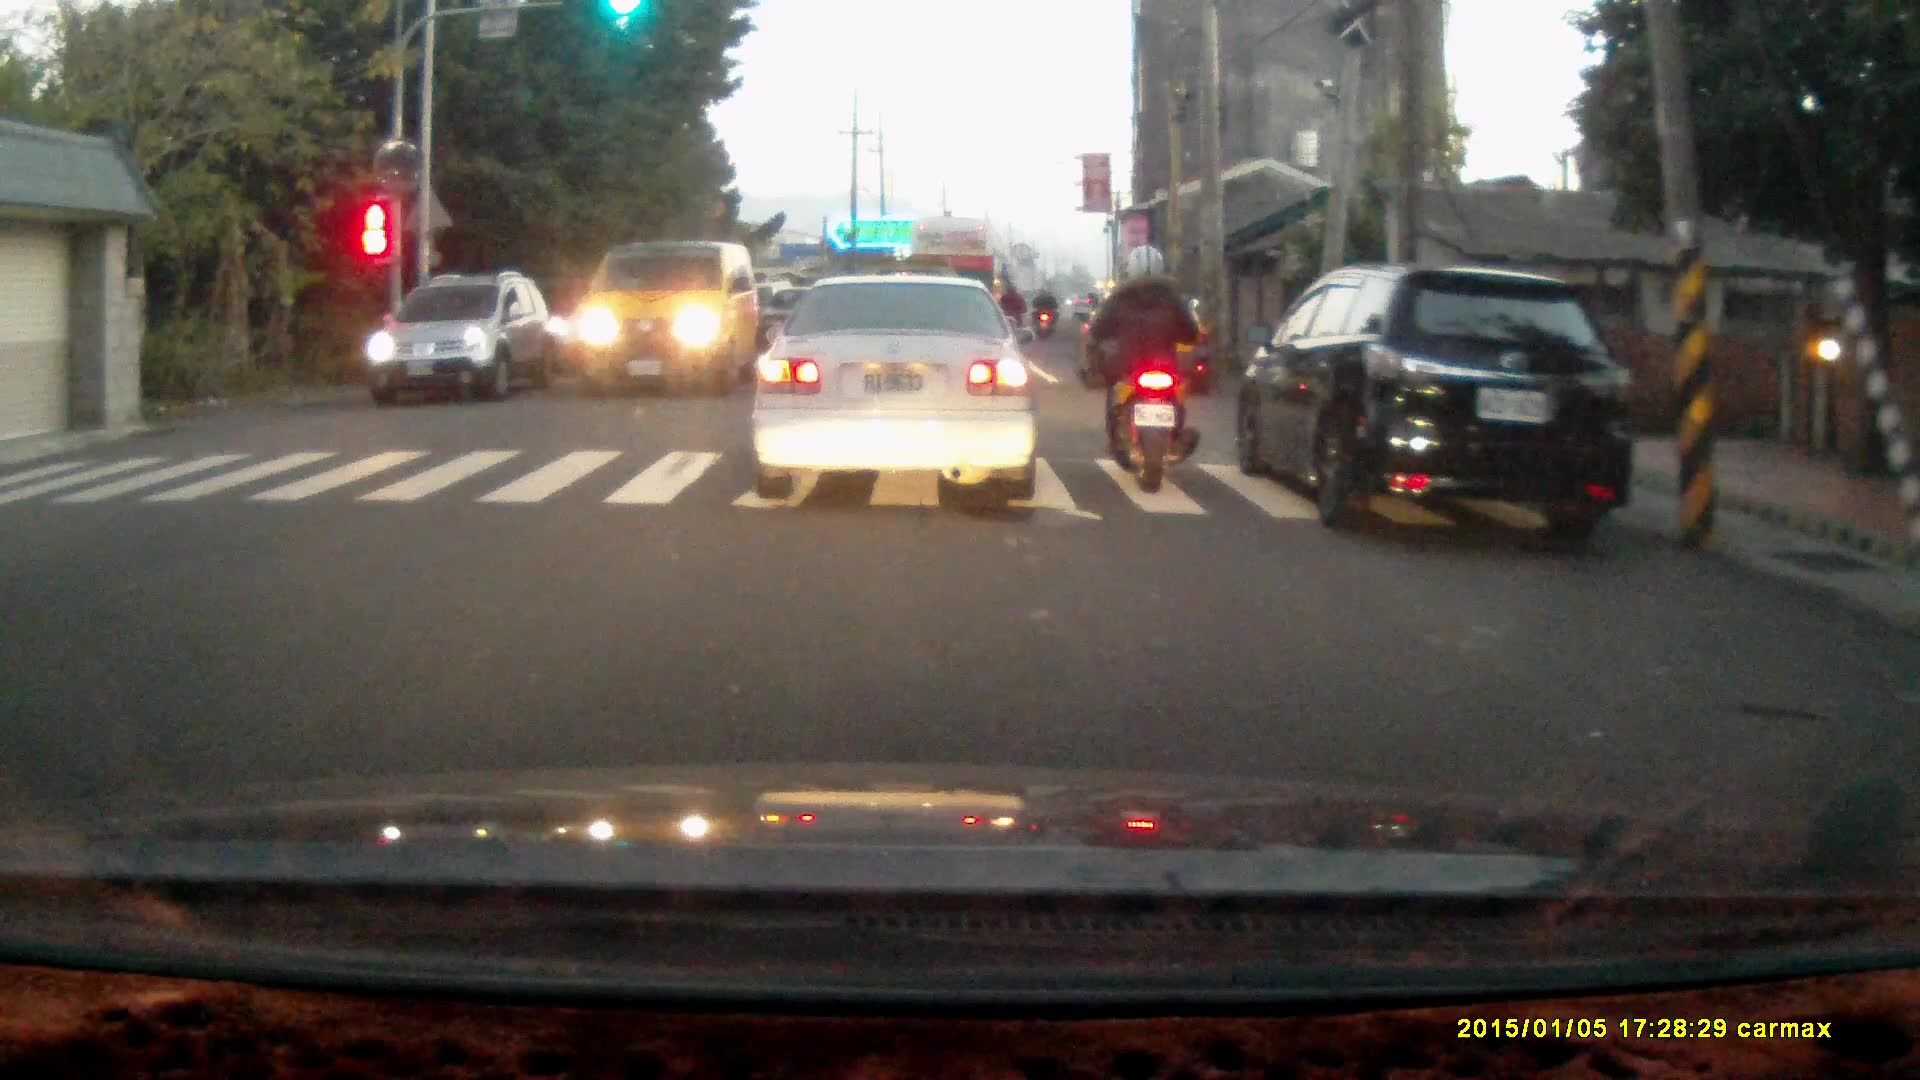rider: (1084, 239, 1198, 492)
vehicle: (1242, 262, 1638, 533), (751, 269, 1044, 506), (571, 244, 761, 405), (366, 272, 553, 402), (1081, 291, 1212, 406), (906, 222, 1013, 353)
